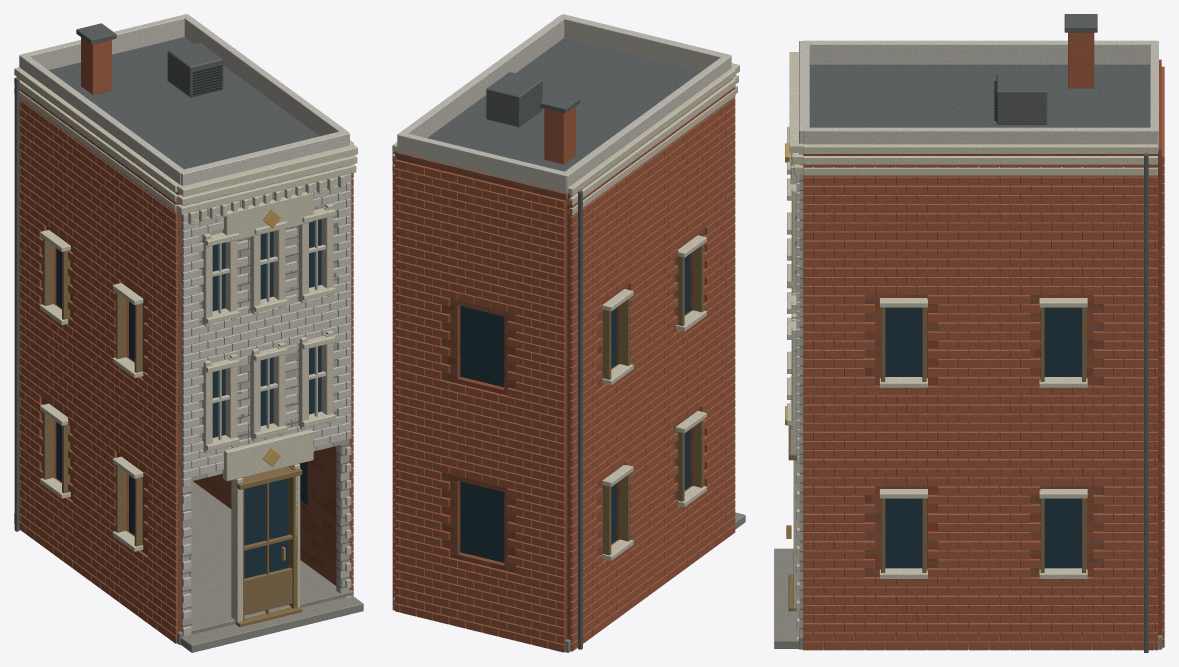
Rendered from OFFC19_lod0.glb.
3 renders of one model, left to right at view 1: azimuth 30°, elevation 25°; view 2: azimuth 150°, elevation 25°; view 3: azimuth 270°, elevation 25°, orthographic. The views are drawn at different scales.
Parts seen in each view (by area): view 1: OFFC19_LOD0; view 2: OFFC19_LOD0; view 3: OFFC19_LOD0.
Boxes of the visible parts, box(x1,y1,x2,y2) form: OFFC19_LOD0: box(14, 14, 363, 652); OFFC19_LOD0: box(392, 14, 745, 652); OFFC19_LOD0: box(774, 14, 1164, 652).
Size of the model in its own units: 4.11 by 10.45 by 6.6.
16 materials, 13 textured.
